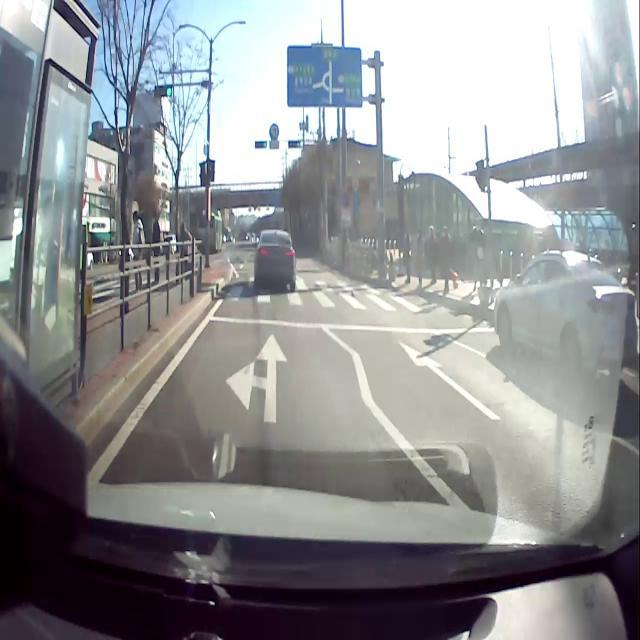crosswalk: (226, 277, 431, 313)
